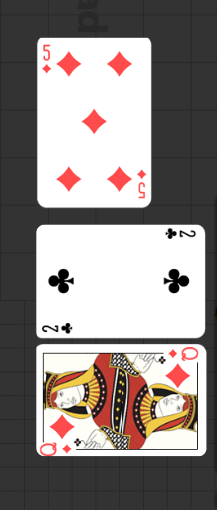2C: (41, 321, 75, 334)
9D: (42, 42, 54, 75)
QD: (36, 400, 83, 444), (157, 333, 203, 377)
